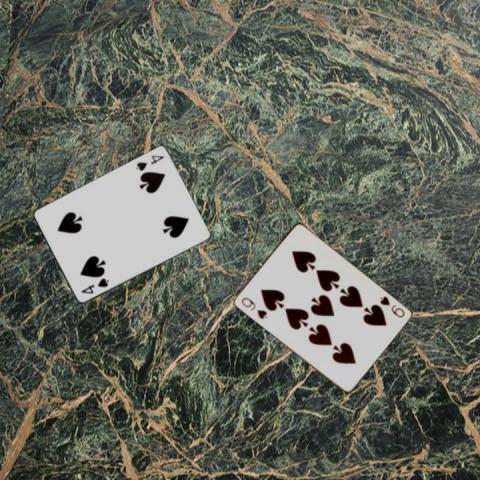4s: (78, 276, 110, 296), (133, 153, 165, 172)
9s: (238, 294, 269, 321), (377, 294, 406, 320)
